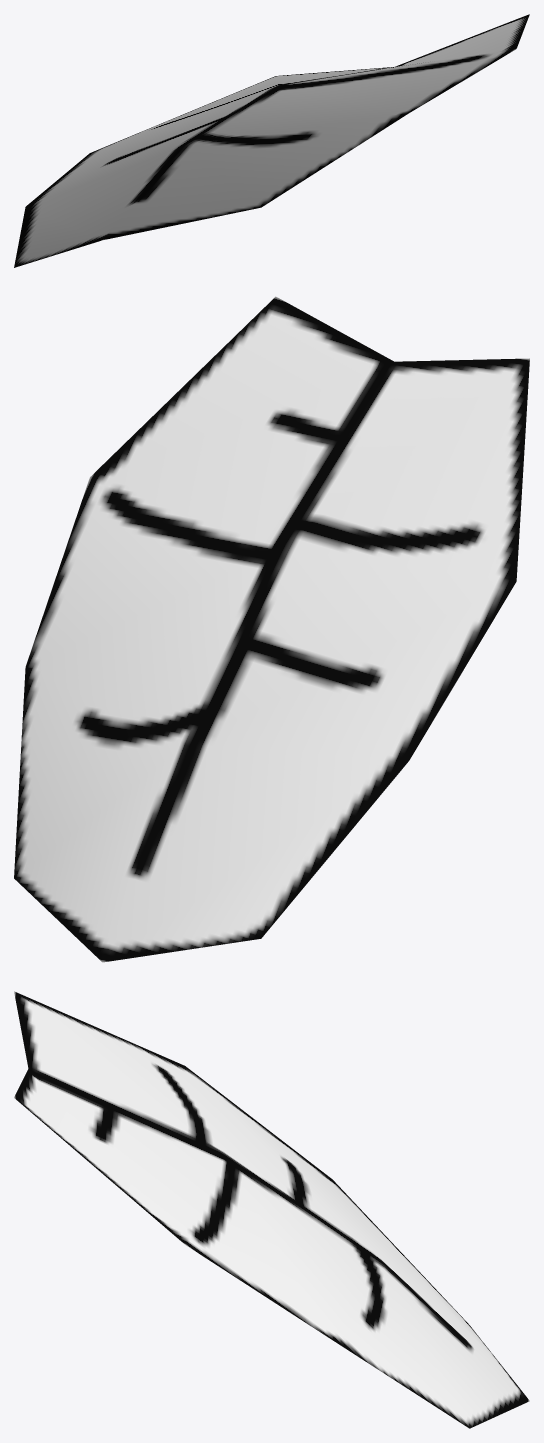
Rendered from Leafsmall_1.glb.
The picture shows the model from 3 angles, top to bottom: view 1: azimuth 30°, elevation 25°; view 2: azimuth 150°, elevation 25°; view 3: azimuth 270°, elevation 25°; orthographic projection. The views are drawn at different scales.
Visible parts, largest first — view 1: leafs; view 2: leafs; view 3: leafs.
Part boxes in pixels (x1,y1,x2,y2): leafs: (14, 14, 529, 267); leafs: (14, 296, 529, 962); leafs: (14, 991, 529, 1428).
Size of the model in its own units: 2.42 by 2.25 by 2.95.
1 material, 1 textured.
